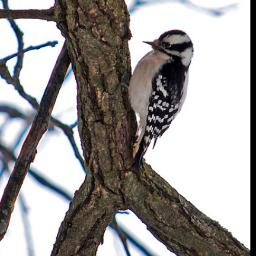Woodpecker: (111, 30, 194, 170)
